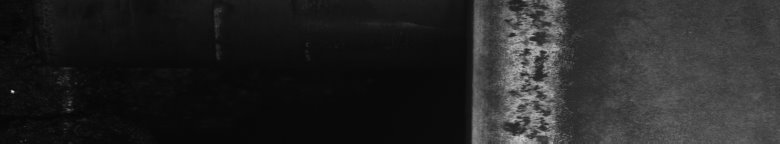kb: (495, 4, 567, 136)
